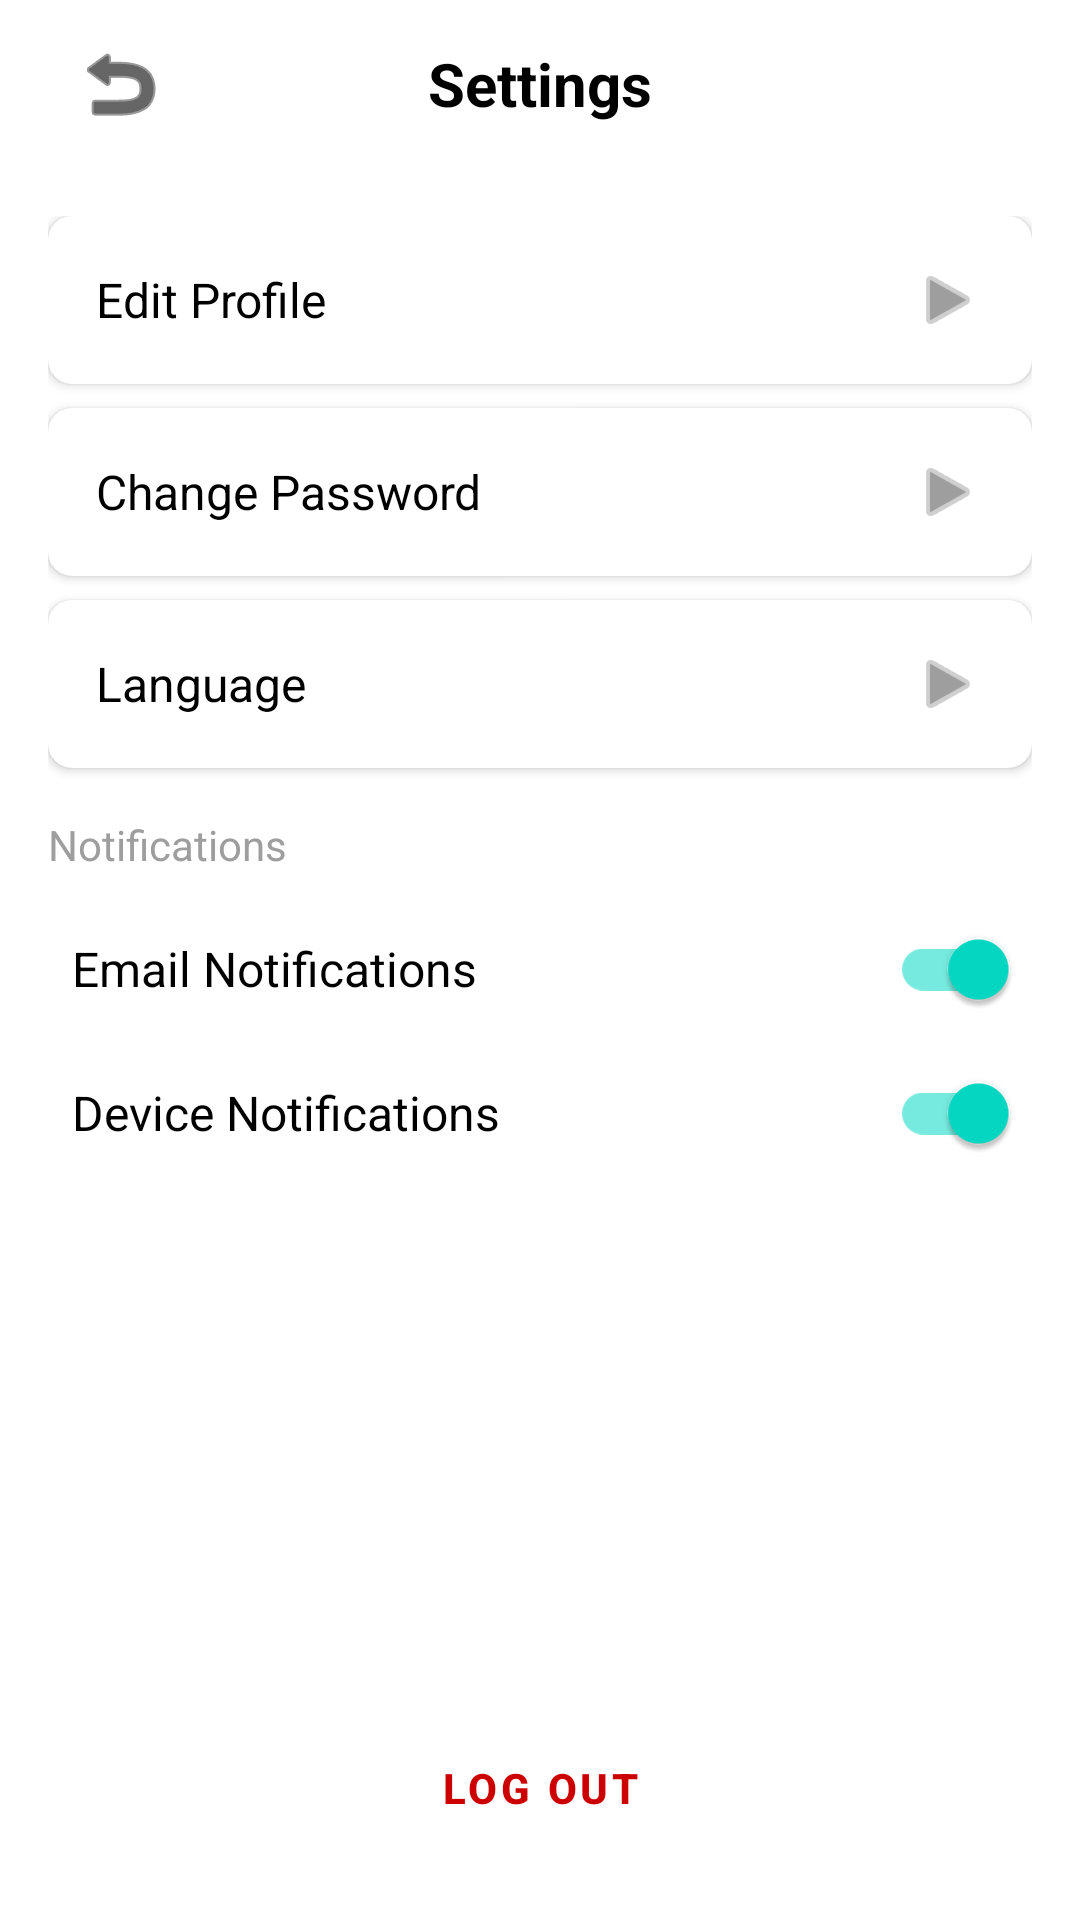

Locate icon controls on the screen. Image size 1080 × 1920, boxes as (x1, y1, x2, y2).
play: (926, 276, 970, 324), (926, 468, 970, 516), (926, 660, 970, 708)
revert: (87, 53, 156, 116)
